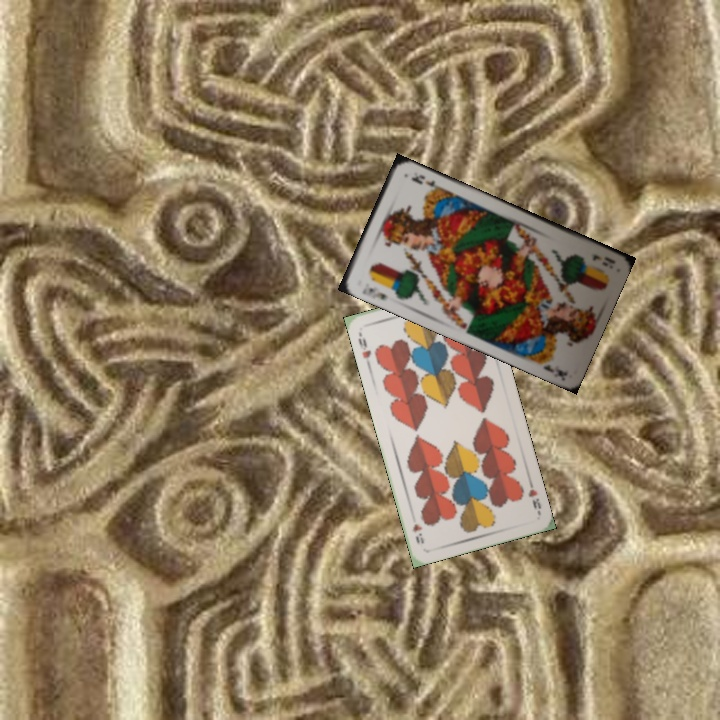EK: (358, 284, 391, 302), (588, 250, 617, 266)
H9: (524, 476, 544, 511), (354, 334, 374, 368)
